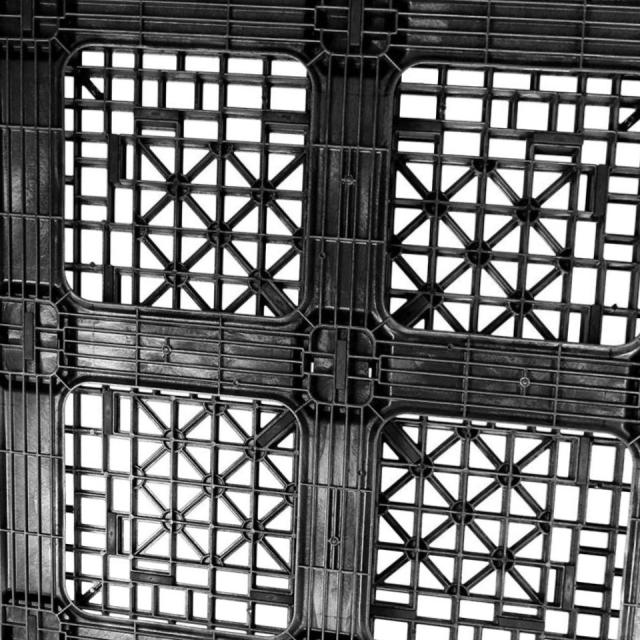non-igps: (1, 0, 639, 639)
